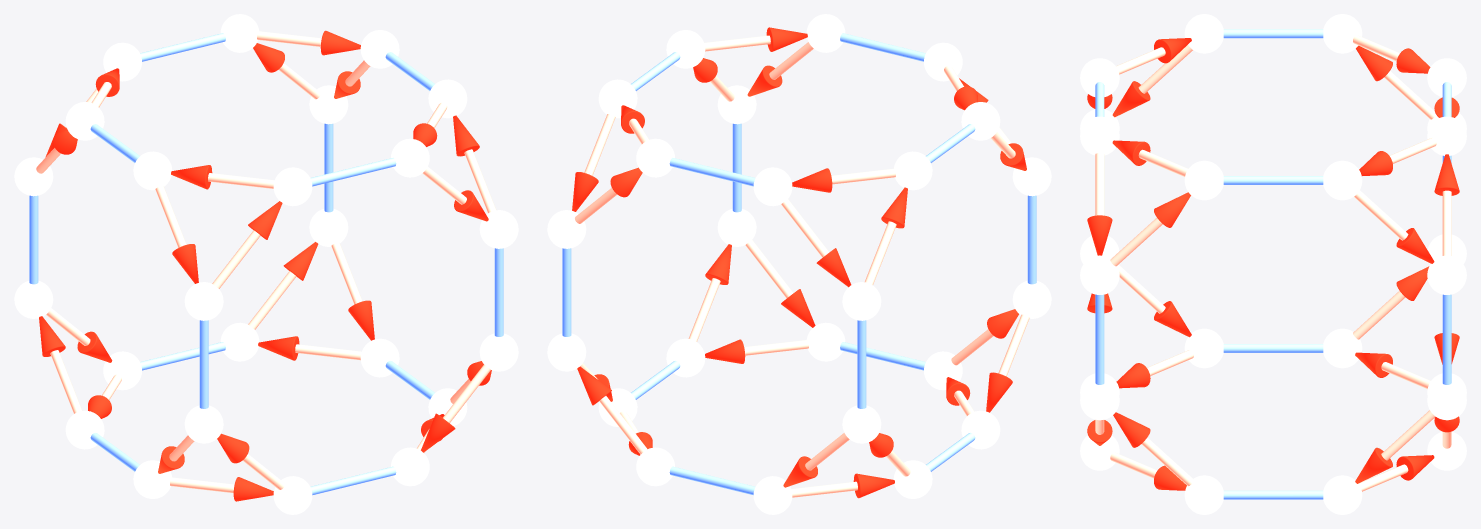
3 renders of one model, left to right at view 1: azimuth 30°, elevation 25°; view 2: azimuth 150°, elevation 25°; view 3: azimuth 270°, elevation 25°, orthographic.
Visible parts, largest first — view 1: Sticks red.001, Sticks blue.001, spheres_glb.007, spheres_glb.005, spheres_glb.018, spheres_glb.006, spheres_glb.003, spheres_glb.015, spheres_glb.009, spheres_glb.017, spheres_glb.016, spheres_glb.020 (+27 smaller); view 2: Sticks red.001, Sticks blue.001, spheres_glb.012, spheres_glb.011, spheres_glb.010, spheres_glb.013, spheres_glb.009, spheres_glb.021, spheres_glb.017, spheres_glb.015, spheres_glb.025, spheres_glb.020 (+27 smaller); view 3: Sticks red.001, Sticks blue.001, spheres_glb.019, spheres_glb.023, spheres_glb.024, spheres_glb.022, spheres_glb.018, spheres_glb.014, spheres_glb.015, spheres_glb.021, spheres_glb.006, spheres_glb.008 (+28 smaller).
Part boxes in pixels (x1,y1,x2,y2): Sticks red.001: (36,31,496,493); Sticks blue.001: (29,33,503,495); spheres_glb.007: (184,282,223,320); spheres_glb.005: (273,167,312,206); spheres_glb.018: (479,210,518,248); spheres_glb.006: (133,151,172,190); spheres_glb.003: (184,405,223,443); spheres_glb.015: (479,333,518,371); spheres_glb.009: (14,280,53,318); spheres_glb.017: (391,138,429,177); spheres_glb.016: (391,447,429,486); spheres_glb.020: (220,322,259,361); Sticks red.001: (575,35,1029,497); Sticks blue.001: (562,33,1036,495); spheres_glb.012: (842,282,881,320); spheres_glb.011: (753,167,792,206); spheres_glb.010: (753,476,792,514); spheres_glb.013: (894,151,932,190); spheres_glb.009: (842,405,881,443); spheres_glb.021: (547,333,586,371); spheres_glb.017: (806,14,845,52); spheres_glb.015: (717,208,756,246); spheres_glb.025: (636,138,674,177); spheres_glb.020: (636,447,674,486); Sticks red.001: (1095,35,1451,491); Sticks blue.001: (1095,29,1451,499); spheres_glb.019: (1184,160,1223,200); spheres_glb.023: (1323,160,1362,200); spheres_glb.024: (1427,255,1466,294); spheres_glb.022: (1323,475,1362,514); spheres_glb.018: (1080,255,1119,294); spheres_glb.014: (1184,475,1223,514); spheres_glb.015: (1080,381,1119,420); spheres_glb.021: (1427,381,1466,420); spheres_glb.006: (1184,14,1223,53); spheres_glb.008: (1323,328,1362,368).
Size of the model in its own units: 1.23 by 1.23 by 1.23.
